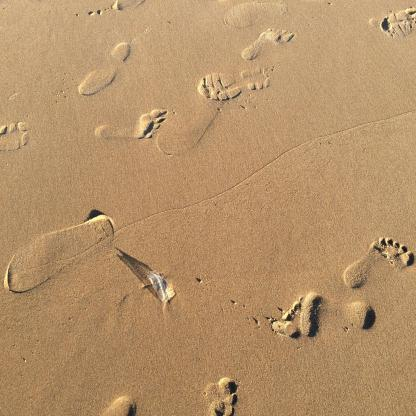plastik: (146, 271, 170, 302)
